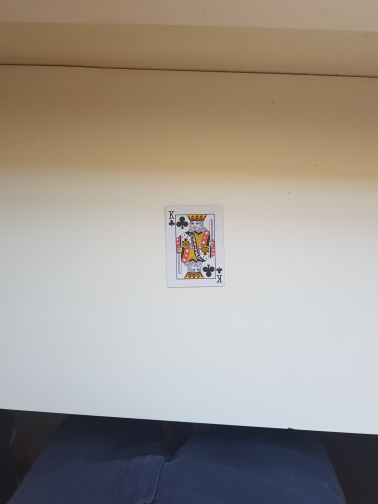king: (164, 203, 226, 290)
